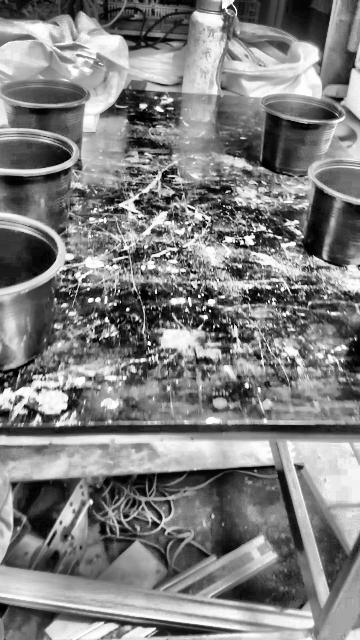pot: (0, 213, 65, 371), (0, 128, 79, 231), (260, 94, 344, 176), (0, 79, 90, 154), (303, 159, 360, 268)
